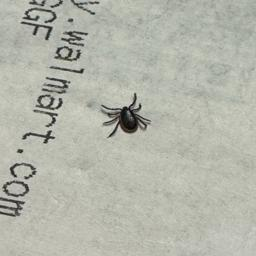Ixodes scapularis: (101, 101, 151, 138)
